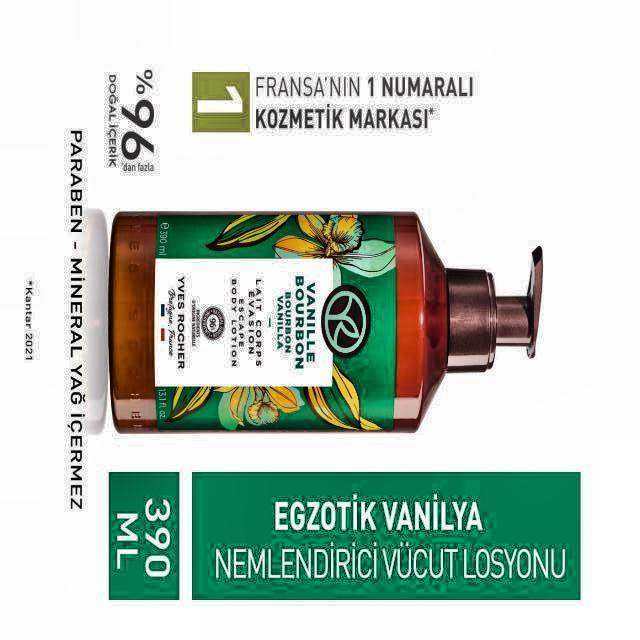plastic: (110, 213, 541, 430)
